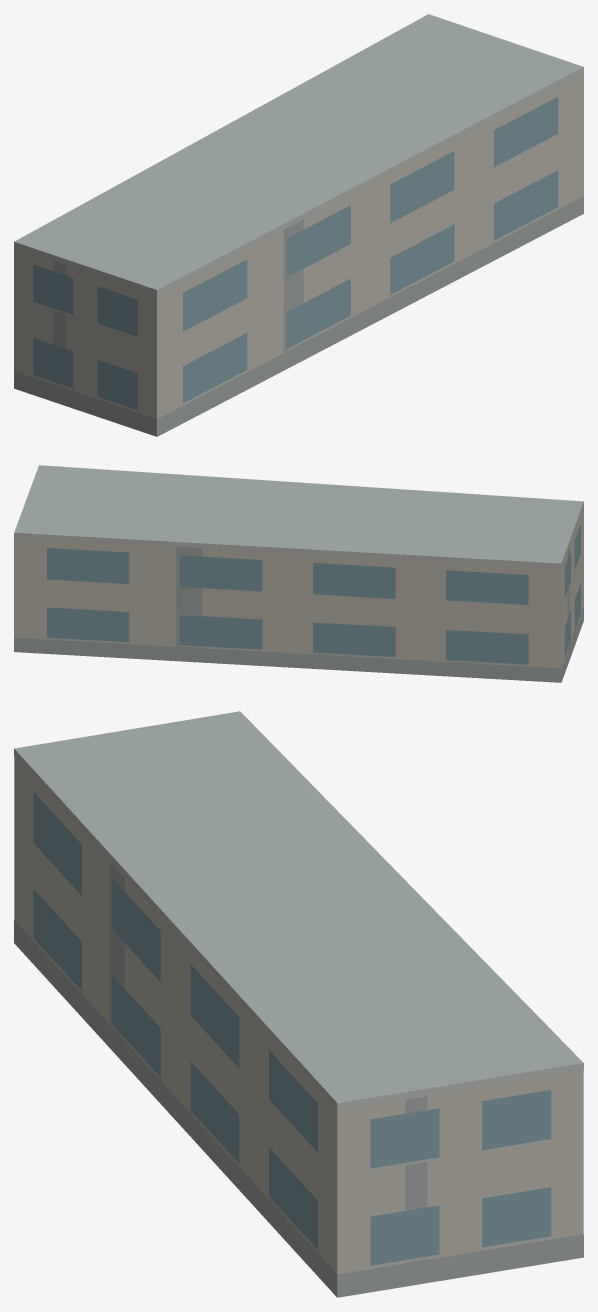
Rendered from survey-upis-32969200.glb.
3 renders of one model, top to bottom at view 1: azimuth 30°, elevation 25°; view 2: azimuth 150°, elevation 25°; view 3: azimuth 270°, elevation 25°, orthographic. The views are drawn at different scales.
Parts seen in each view (by area): view 1: survey-upis-32969200.tmp; view 2: survey-upis-32969200.tmp; view 3: survey-upis-32969200.tmp.
Boxes of the visible parts, x1,y1,x2,y2 form: survey-upis-32969200.tmp: (14,14,583,436); survey-upis-32969200.tmp: (14,465,583,682); survey-upis-32969200.tmp: (14,711,583,1297).
Size of the model in its own units: 26.38 by 6.1 by 16.2.
